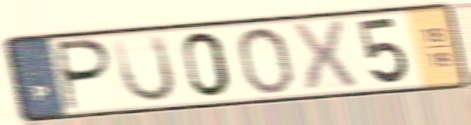0: (180, 29, 234, 100)
5: (355, 16, 410, 86)
O: (234, 25, 297, 97)
P: (56, 37, 116, 114)
U: (111, 32, 180, 105)
X: (287, 18, 361, 96)
